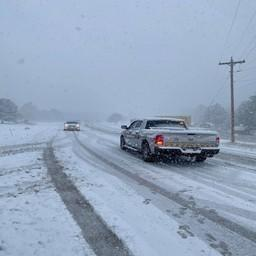Snow: (0, 120, 255, 255), (77, 122, 255, 230)
